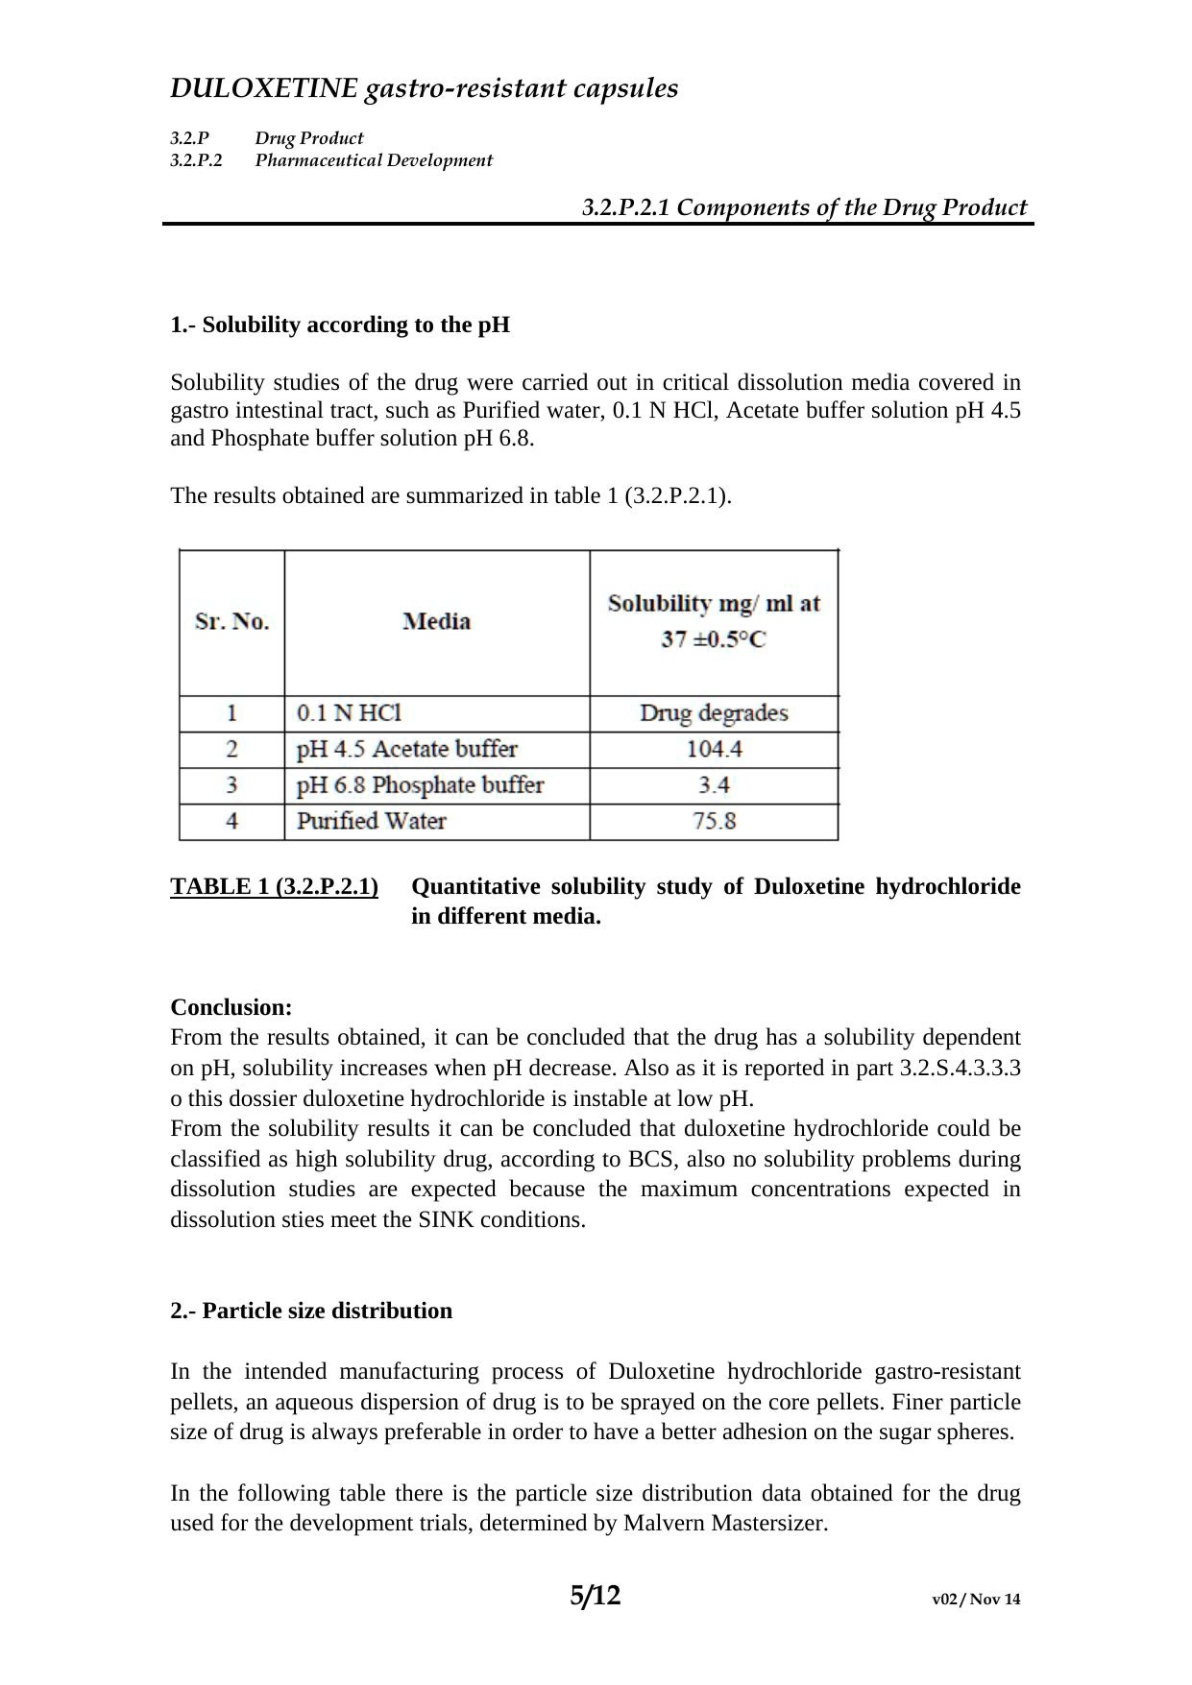full_lined: (177, 548, 840, 842)
